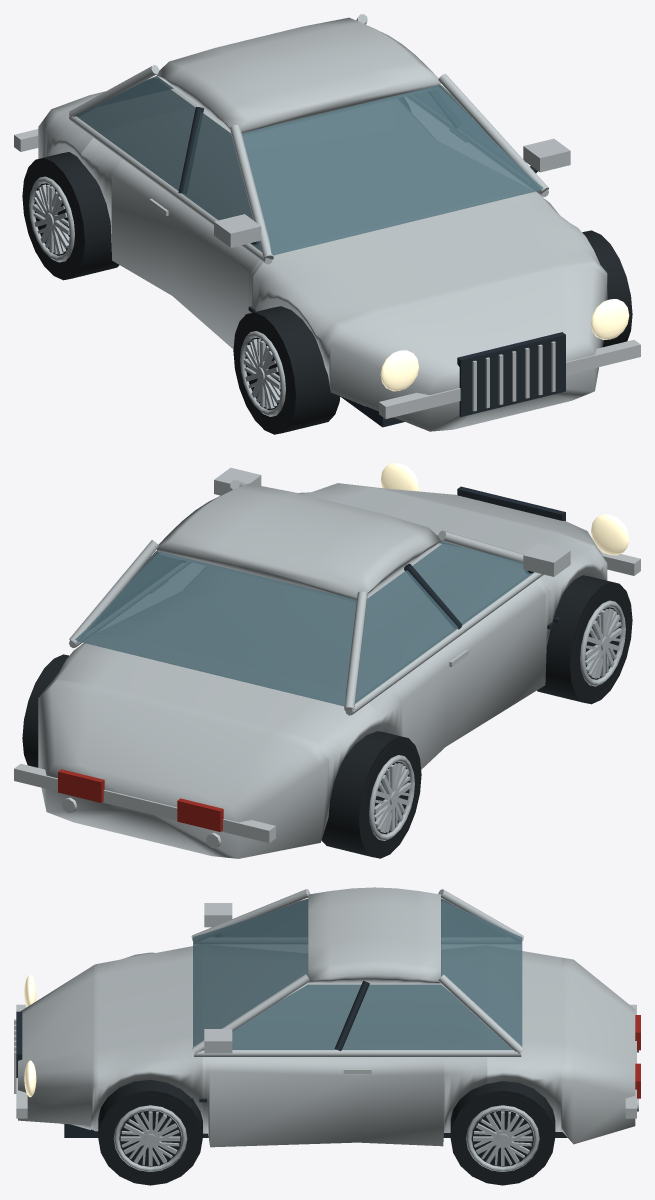
Rendered from gullwing.glb.
3 views of the same model, one above another, from view 1: azimuth 30°, elevation 25°; view 2: azimuth 150°, elevation 25°; view 3: azimuth 270°, elevation 25° (orthographic). The views are drawn at different scales.
Visible parts, largest first — view 1: exterior-paint, windows, tire-front-left, tire-rear-left, black-trim, chrome, rim-rear-left, rim-front-left, headlights, tire-front-right; view 2: exterior-paint, windows, tire-rear-left, tire-front-left, chrome, rim-front-left, rim-rear-left, taillights, headlights, black-trim, tire-rear-right; view 3: exterior-paint, windows, tire-front-right, tire-rear-right, rim-front-right, rim-rear-right, black-trim, chrome, headlights.
Boxes of the visible parts, x1,y1,x2,y2 form: exterior-paint: (38, 14, 607, 431); windows: (75, 76, 542, 255); tire-front-left: (233, 306, 340, 434); tire-rear-left: (22, 152, 119, 280); black-trim: (178, 91, 565, 427); chrome: (14, 129, 640, 418); rim-rear-left: (29, 176, 74, 262); rim-front-left: (240, 331, 285, 416); headlights: (380, 299, 629, 391); tire-front-right: (582, 230, 632, 347); exterior-paint: (38, 467, 607, 858); windows: (75, 535, 534, 706); tire-rear-left: (321, 731, 421, 858); tire-front-left: (537, 575, 632, 704); chrome: (14, 548, 640, 848); rim-front-left: (580, 600, 625, 686); rim-rear-left: (369, 755, 414, 840); taillights: (58, 769, 223, 831); headlights: (380, 463, 629, 555); black-trim: (404, 486, 565, 629); tire-rear-right: (22, 654, 68, 767); exterior-paint: (18, 887, 635, 1147); windows: (193, 898, 522, 1049); tire-front-right: (98, 1079, 202, 1185); tire-rear-right: (450, 1081, 555, 1185); rim-front-right: (113, 1105, 187, 1171); rim-rear-right: (466, 1105, 539, 1171); black-trim: (16, 981, 567, 1137); chrome: (14, 1004, 638, 1118); headlights: (24, 974, 36, 1097).
Size of the model in its own units: 1.91 by 1.23 by 3.59.
